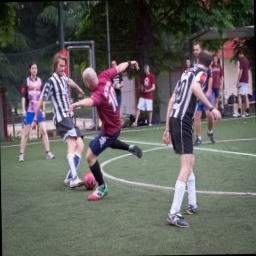football: (83, 172, 97, 190)
